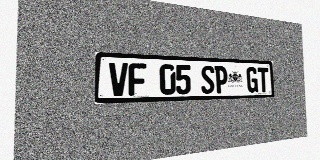0: (159, 64, 176, 95)
5: (176, 65, 191, 94)
F: (128, 63, 146, 96)
G: (246, 67, 258, 93)
P: (214, 66, 228, 93)
S: (201, 65, 215, 94)
T: (258, 67, 269, 92)
V: (109, 62, 128, 96)
